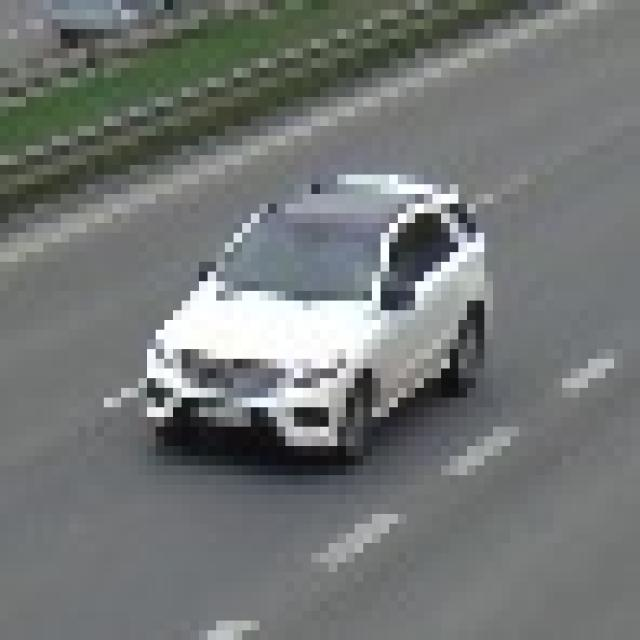SUV: (152, 188, 481, 450)
